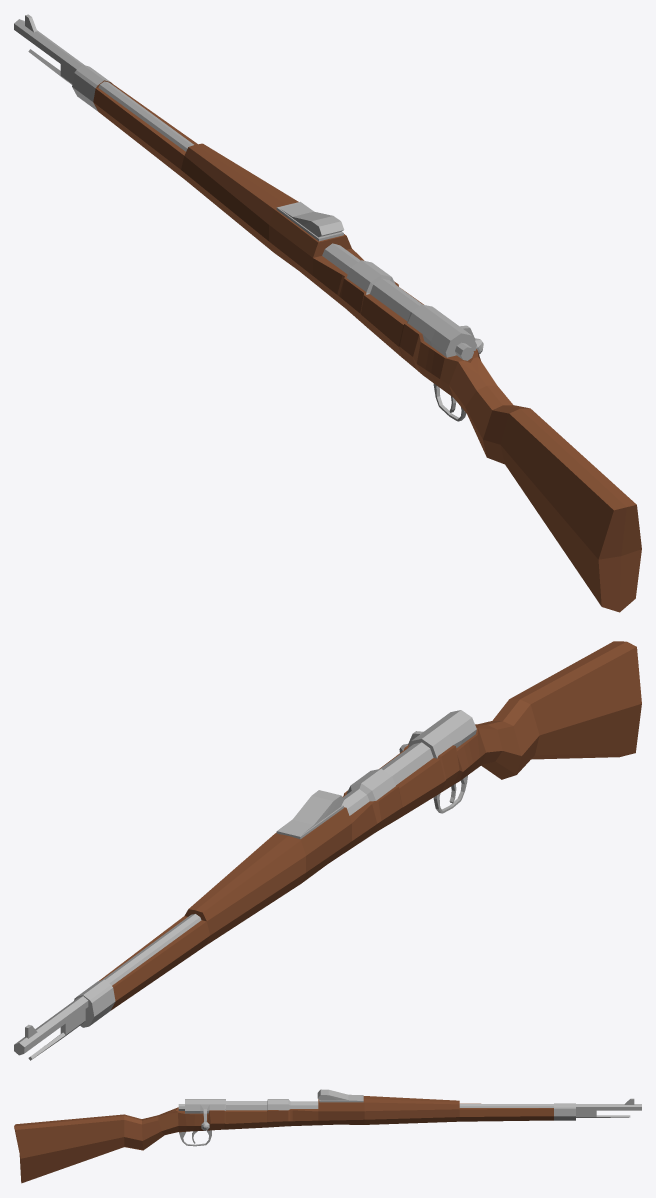
Rendered from rifle.glb.
The picture shows the model from 3 angles, top to bottom: view 1: azimuth 30°, elevation 25°; view 2: azimuth 150°, elevation 25°; view 3: azimuth 270°, elevation 25°; orthographic projection. The views are drawn at different scales.
Visible parts, largest first — view 1: Cube.002; view 2: Cube.002; view 3: Cube.002.
Part boxes in pixels (x1,y1,x2,y2): Cube.002: (14, 14, 641, 612); Cube.002: (14, 641, 641, 1060); Cube.002: (14, 1089, 641, 1183).
Size of the model in its own units: 0.0746 by 0.1947 by 1.21.
